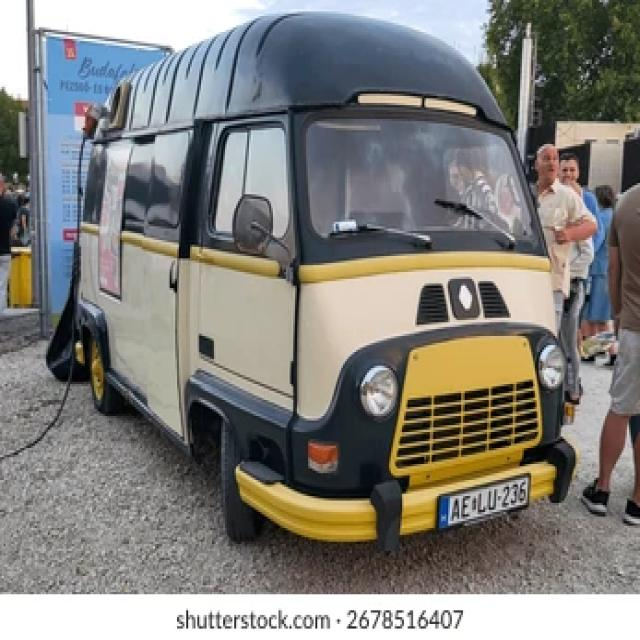renault: (451, 281, 478, 315)
